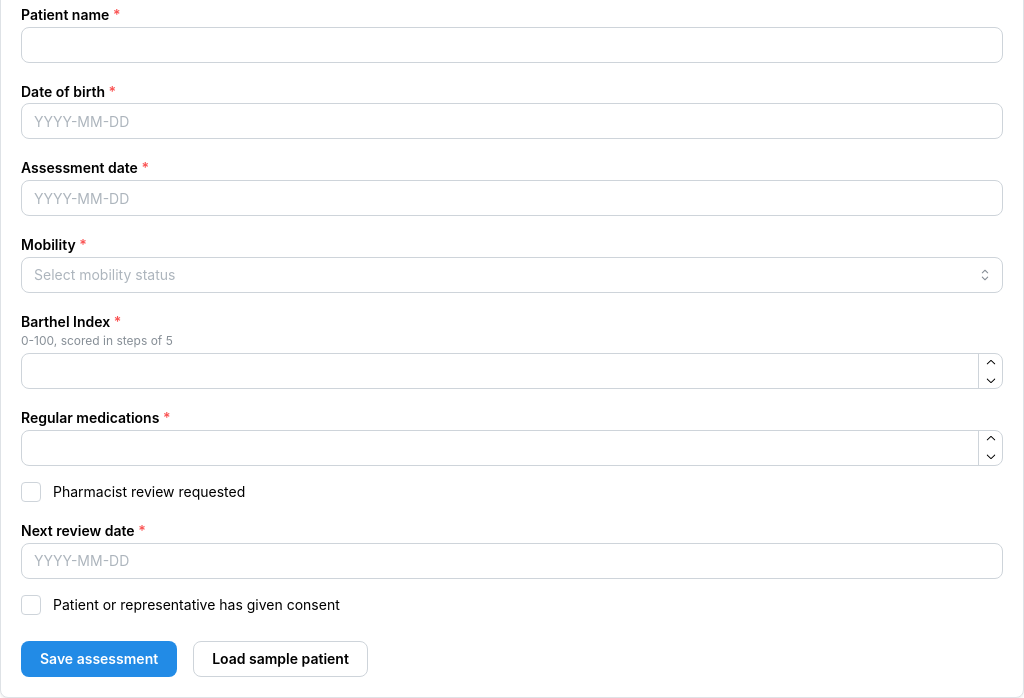
Test: AssessmentForm › saves the parsed assessment when the sample patient is submitted
(page scrolled)
Click the button "Load sample patient" at (281, 659), box [193, 641, 368, 677]
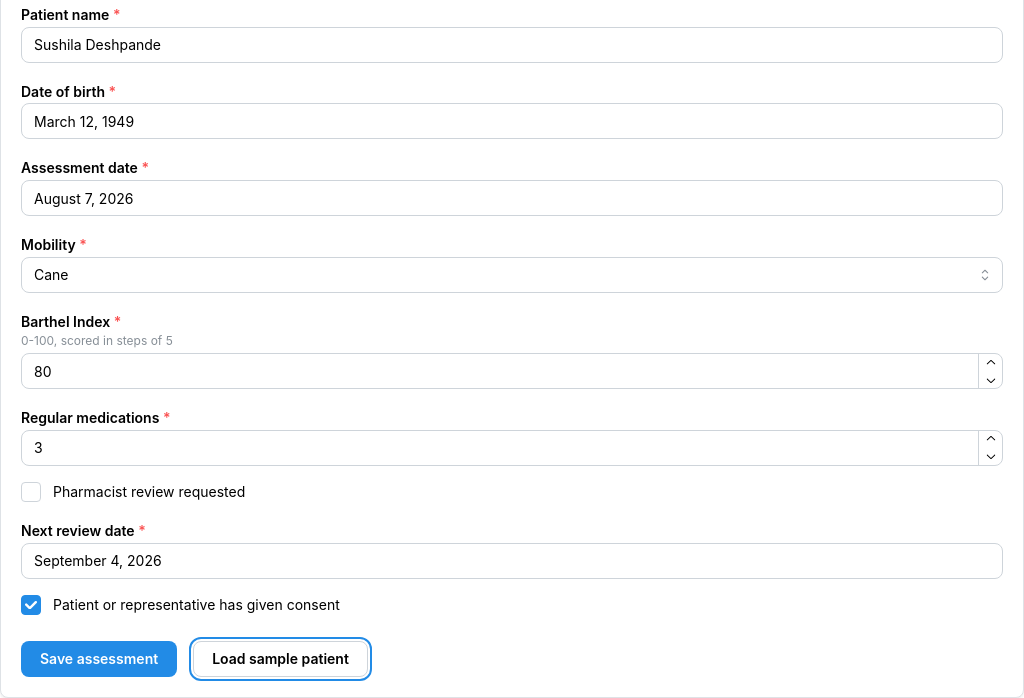
Click the button "Save assessment" at (99, 659), box [21, 641, 177, 677]
(page scrolled)
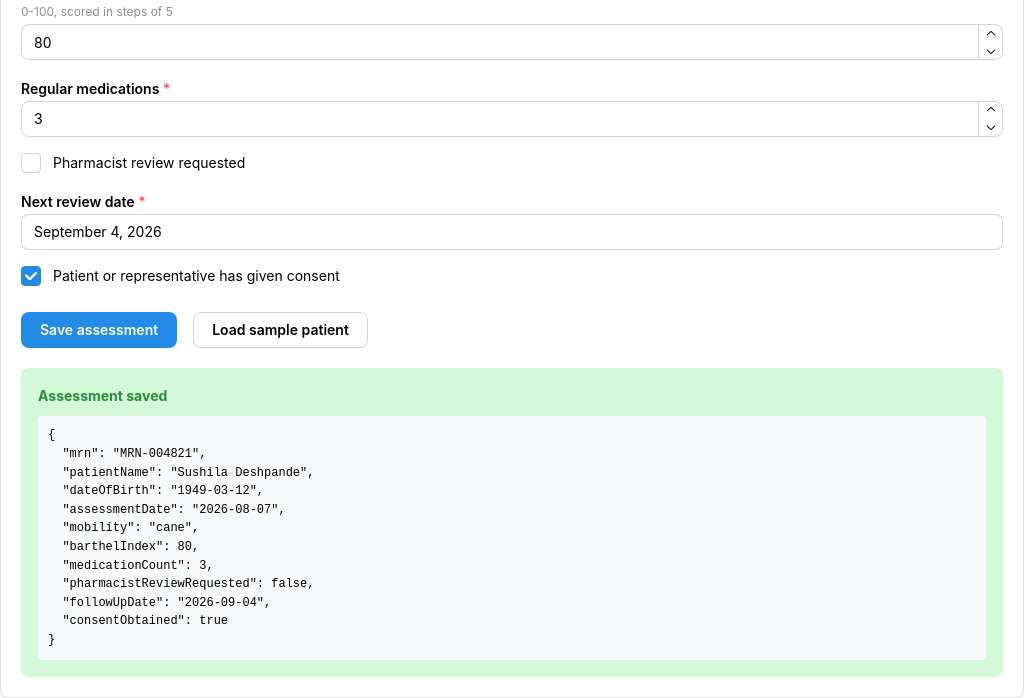
Now the text "Assessment saved" is shown, box [38, 385, 167, 406]
